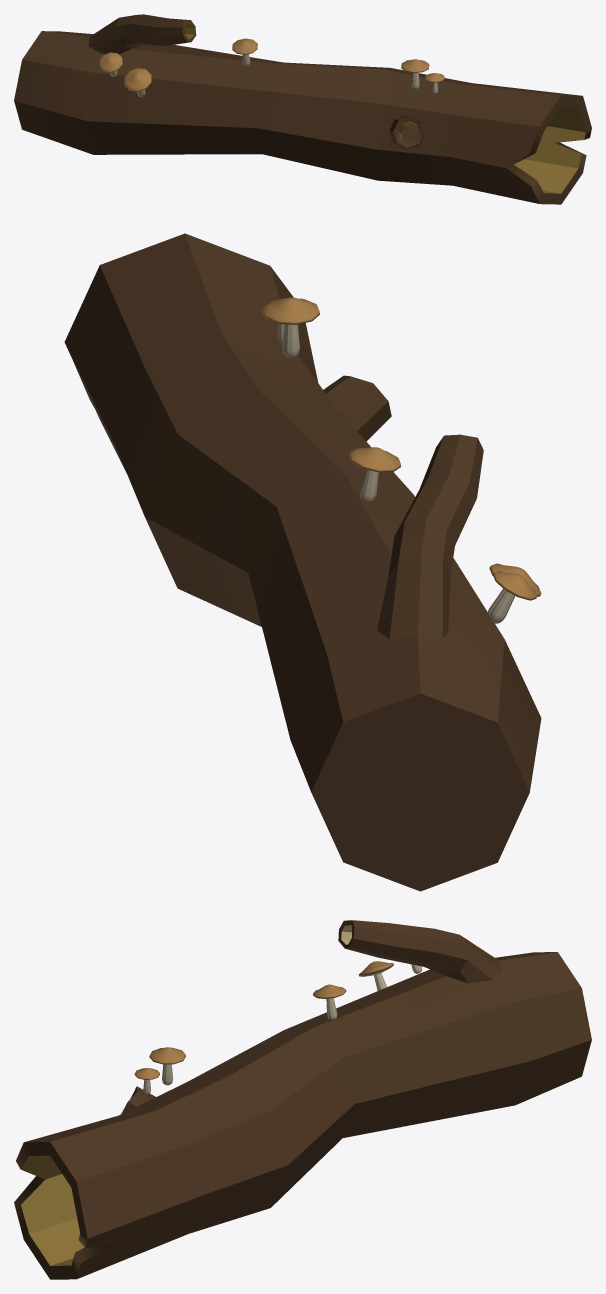
File: tree trunk.fbx
3 views of the same model, one above another, from view 1: azimuth 30°, elevation 25°; view 2: azimuth 150°, elevation 25°; view 3: azimuth 270°, elevation 25° (orthographic). The views are drawn at different scales.
Parts seen in each view (by area): view 1: polySurface45, polySurface46, polySurface49, polySurface48, polySurface47; view 2: polySurface45, polySurface49, polySurface48, polySurface47; view 3: polySurface45, polySurface49, polySurface48, polySurface46.
Part boxes in pixels (left/top/right/bottom): polySurface45: left=14, top=14, right=591, bottom=204; polySurface46: left=124, top=68, right=151, bottom=96; polySurface49: left=401, top=59, right=429, bottom=89; polySurface48: left=232, top=38, right=257, bottom=65; polySurface47: left=99, top=52, right=122, bottom=76; polySurface45: left=64, top=233, right=541, bottom=891; polySurface49: left=262, top=297, right=319, bottom=357; polySurface48: left=349, top=447, right=400, bottom=501; polySurface47: left=490, top=571, right=537, bottom=622; polySurface45: left=14, top=920, right=591, bottom=1279; polySurface49: left=149, top=1047, right=185, bottom=1085; polySurface48: left=313, top=984, right=346, bottom=1019; polySurface46: left=358, top=961, right=393, bottom=990.
Size of the model in its own units: 1.97 by 0.7556 by 1.93.
